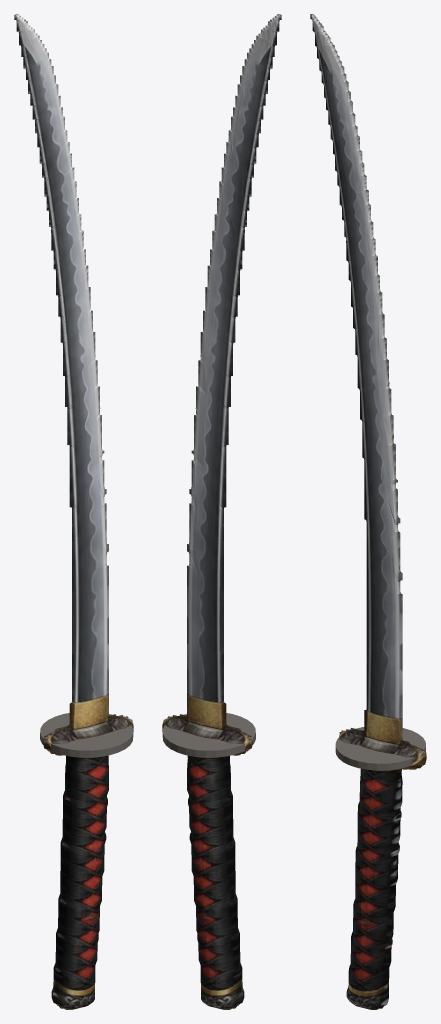
File: w_katana.glb
3 views of the same model, side by side, from view 1: azimuth 30°, elevation 25°; view 2: azimuth 150°, elevation 25°; view 3: azimuth 330°, elevation 25° (orthographic). The views are drawn at different scales.
Parts seen in each view (by area): view 1: Katana; view 2: Katana; view 3: Katana.
Part boxes in pixels (bbox=[...]): Katana: bbox=[14, 14, 133, 1009]; Katana: bbox=[162, 14, 281, 1009]; Katana: bbox=[310, 14, 426, 1009].
Size of the model in its own units: 0.1225 by 0.9997 by 0.084.
2 materials, 1 textured.
